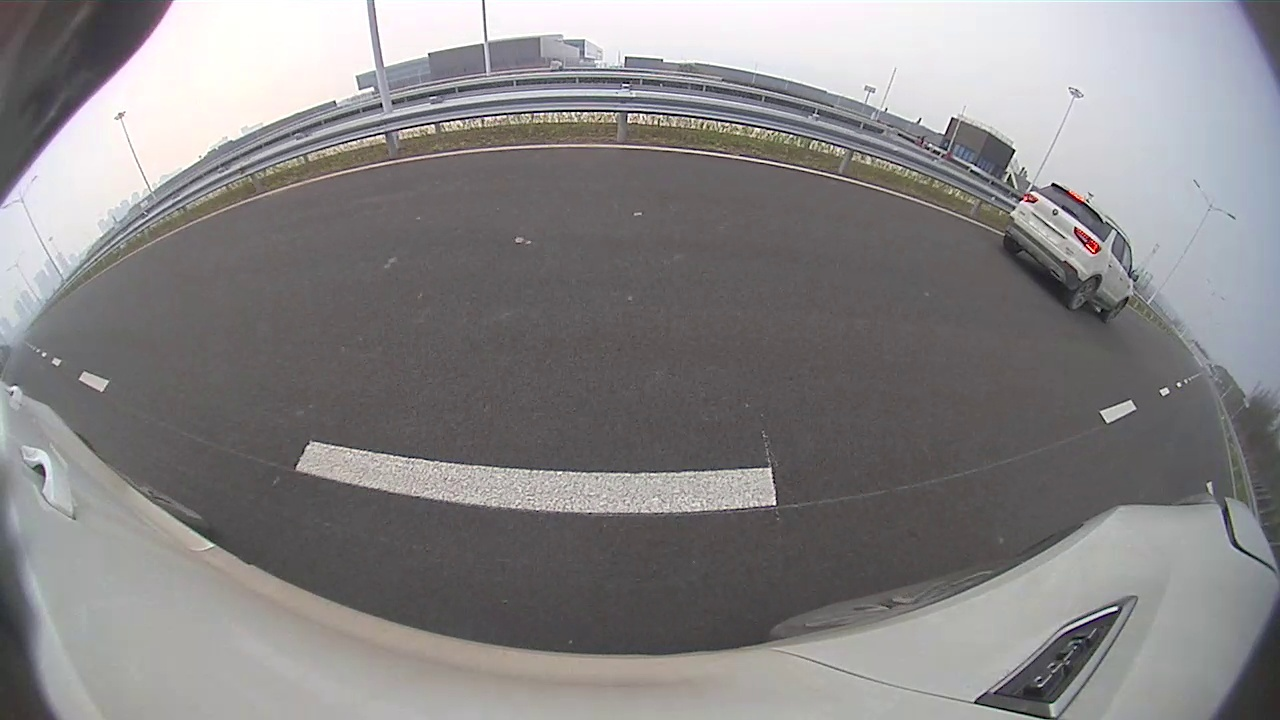car: (1002, 182, 1139, 323)
rear: (1068, 276, 1100, 312)
